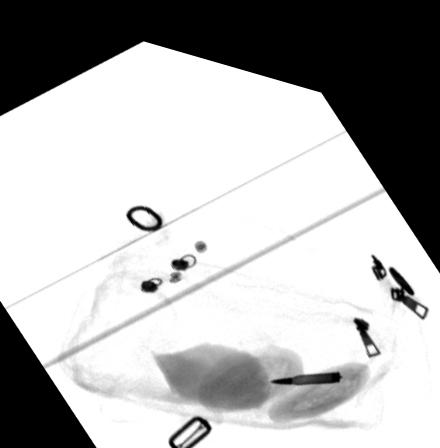Bullet: (264, 351, 342, 368)
